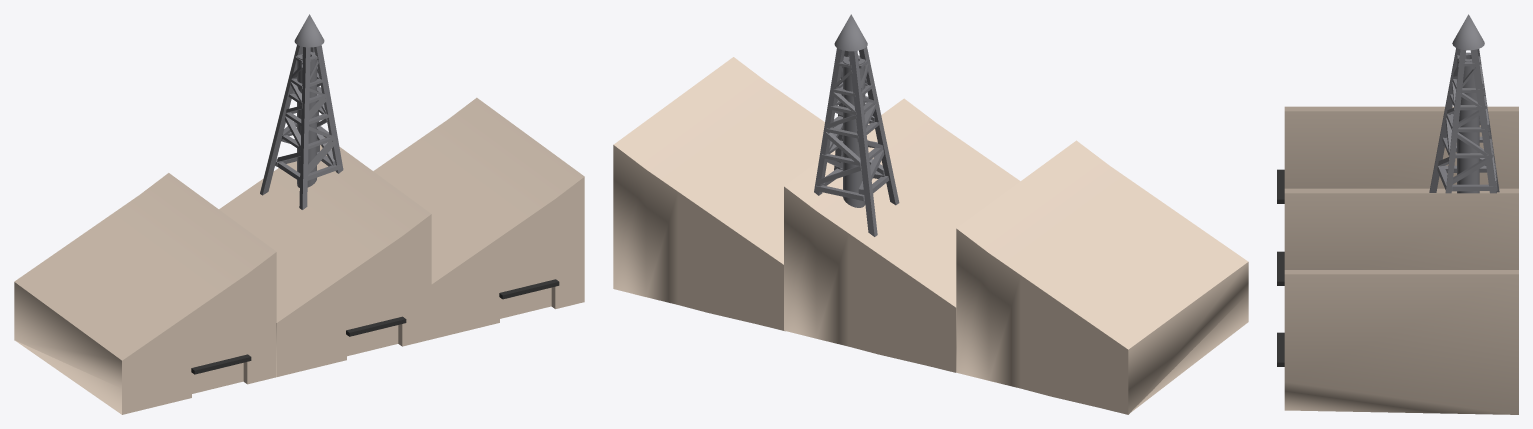
The model's file is factory_warehouses.fbx.
3 views of the same model, side by side, from view 1: azimuth 30°, elevation 25°; view 2: azimuth 150°, elevation 25°; view 3: azimuth 270°, elevation 25° (orthographic). The views are drawn at different scales.
Parts seen in each view (by area): view 1: warehouse3, warehouse1, warehouse2, pCube9, pCube8, pPipe1, pCube6, pCone1; view 2: warehouse3, warehouse1, warehouse2, pCube8, pPipe1, pCube9, pCube7, pCone1; view 3: warehouse1, warehouse2, warehouse3, pPipe1, pCube7, pCube6, pCube9, pCone1, pCube10, pCube11.
Boxes of the visible parts, <box> form: warehouse3: <box>14,173,276,414</box>; warehouse1: <box>373,97,584,339</box>; warehouse2: <box>219,137,431,376</box>; pCube9: <box>299,47,310,209</box>; pCube8: <box>260,45,302,195</box>; pPipe1: <box>297,52,316,187</box>; pCube6: <box>314,45,343,173</box>; pCone1: <box>294,14,324,47</box>; warehouse3: <box>956,140,1248,414</box>; warehouse1: <box>613,57,824,331</box>; warehouse2: <box>784,98,1020,372</box>; pCube8: <box>848,51,877,236</box>; pPipe1: <box>843,56,865,207</box>; pCube9: <box>859,47,899,205</box>; pCube7: <box>814,48,844,195</box>; pCone1: <box>834,14,867,51</box>; warehouse1: <box>1277,270,1518,414</box>; warehouse2: <box>1277,188,1518,285</box>; warehouse3: <box>1277,106,1518,203</box>; pPipe1: <box>1457,52,1479,193</box>; pCube7: <box>1470,49,1496,193</box>; pCube6: <box>1445,49,1466,193</box>; pCube9: <box>1429,48,1460,192</box>; pCone1: <box>1452,14,1484,50</box>; pCube10: <box>1452,184,1493,191</box>; pCube11: <box>1452,158,1489,184</box>.
Bounding box in the file's own units: 77.94 × 44.64 × 32.52.
